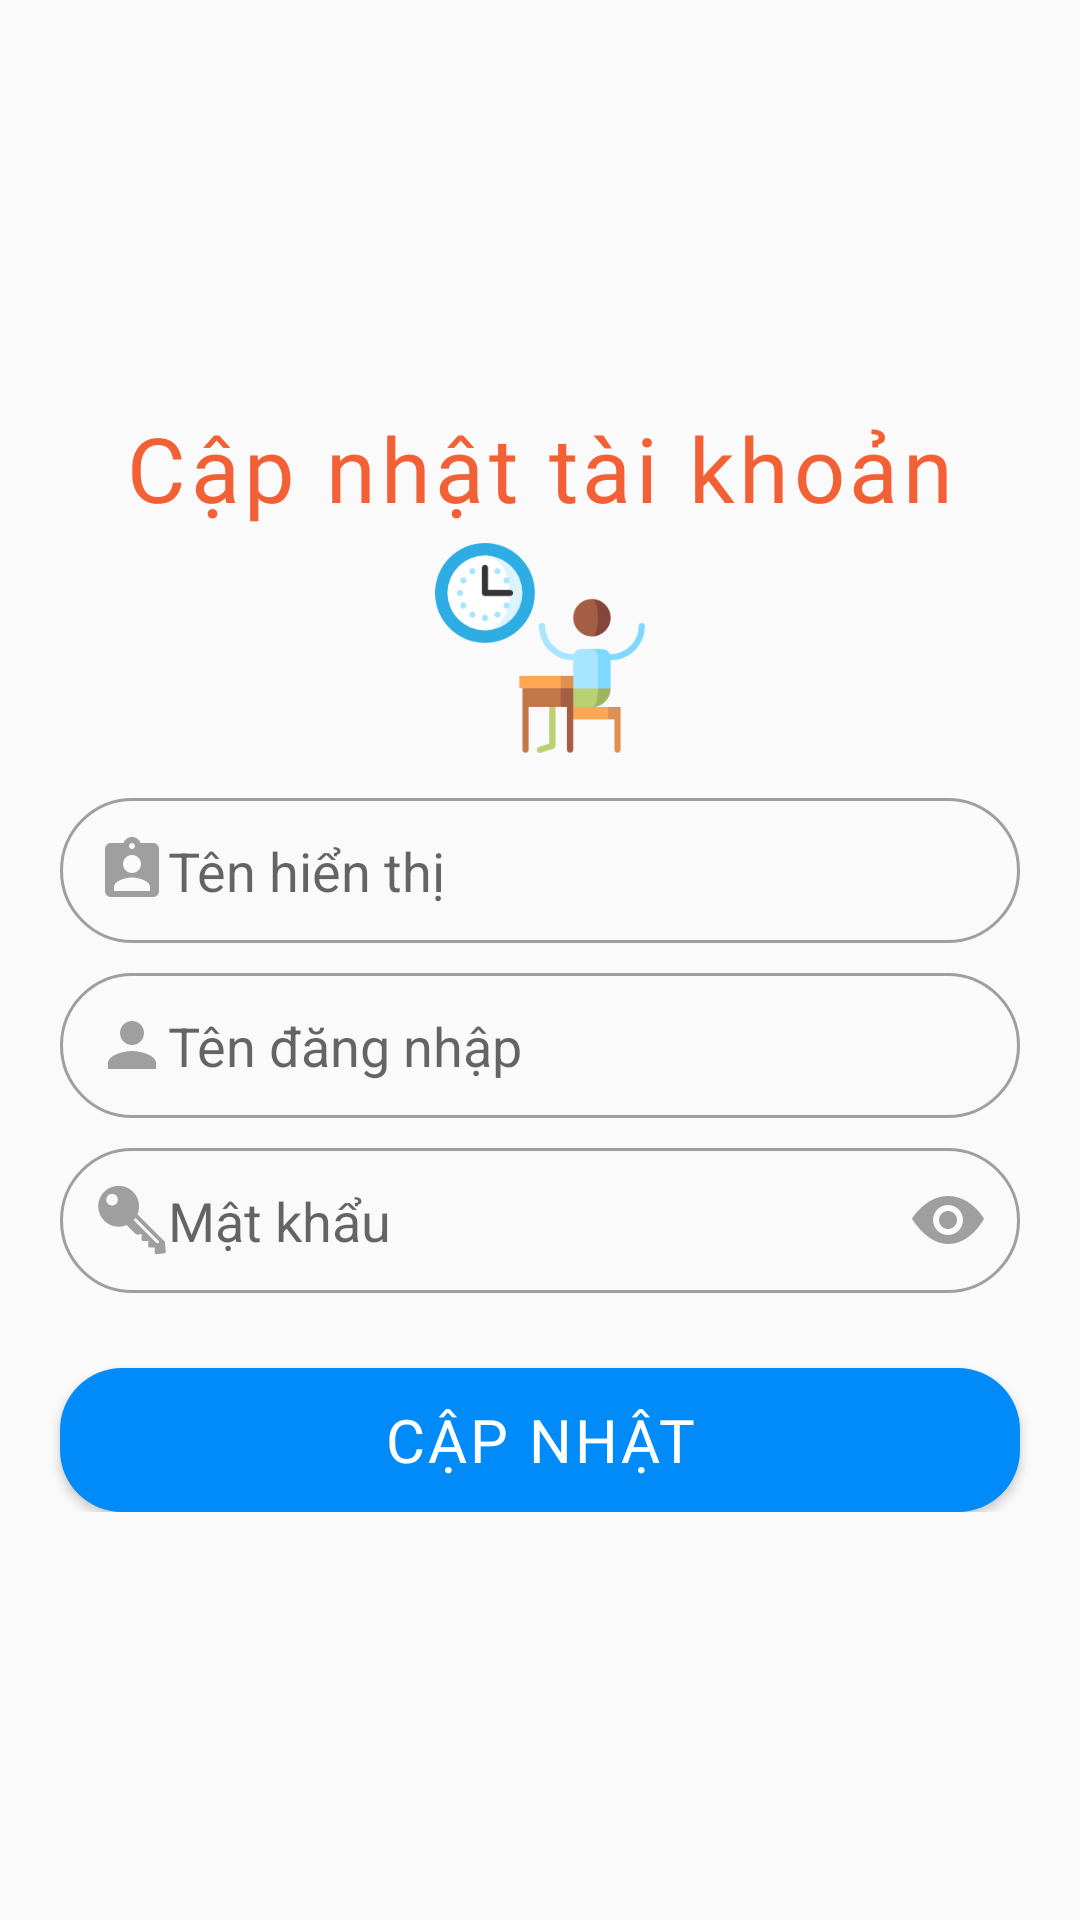

Locate icon controls on the screen. Image size 1080w x 1920h, boxes as (x1, y1, x2, y2).
classroom: (435, 543, 645, 753)
